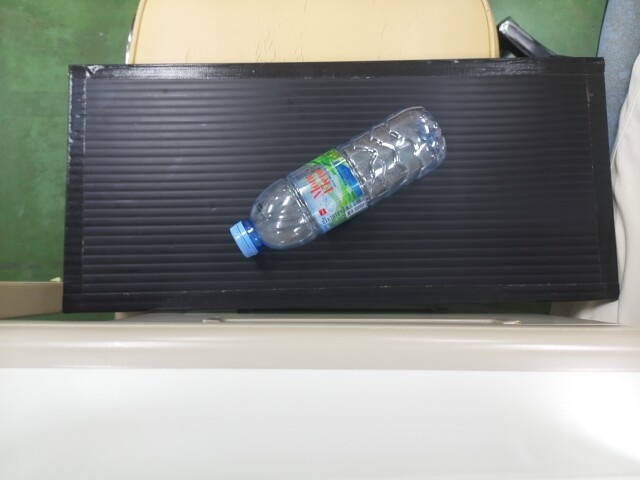plastic_bottle: (225, 133, 401, 257)
